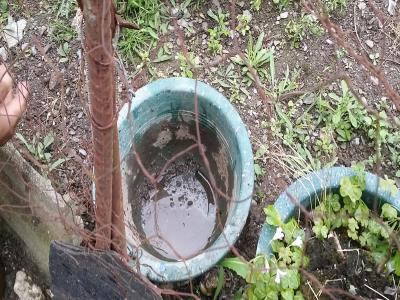bowl: (110, 76, 256, 286)
